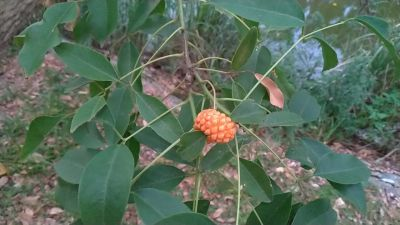eggs: (196, 106, 235, 145)
